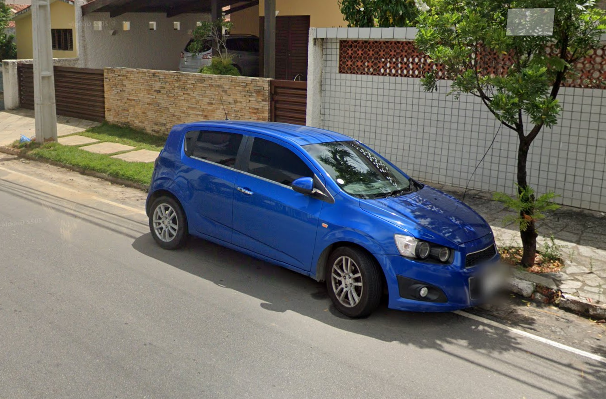car: (141, 94, 508, 320)
